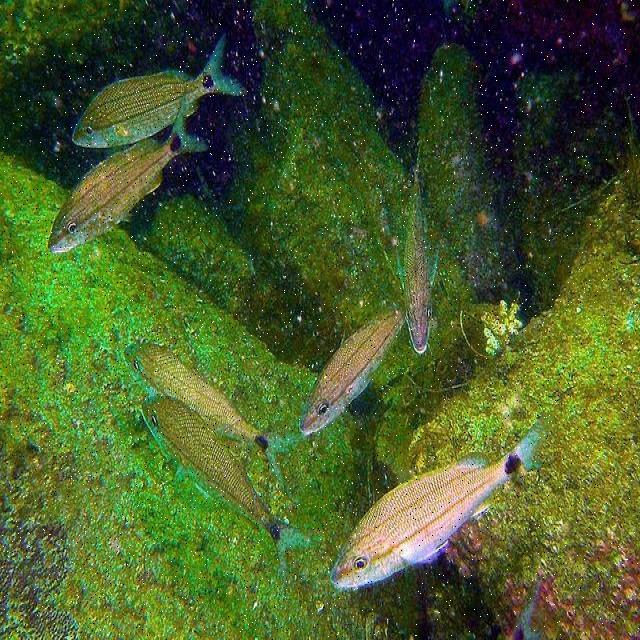fish: (328, 420, 550, 588), (47, 92, 208, 252), (141, 397, 296, 545), (71, 36, 247, 151), (124, 345, 270, 445), (301, 311, 406, 432), (405, 179, 433, 355)
